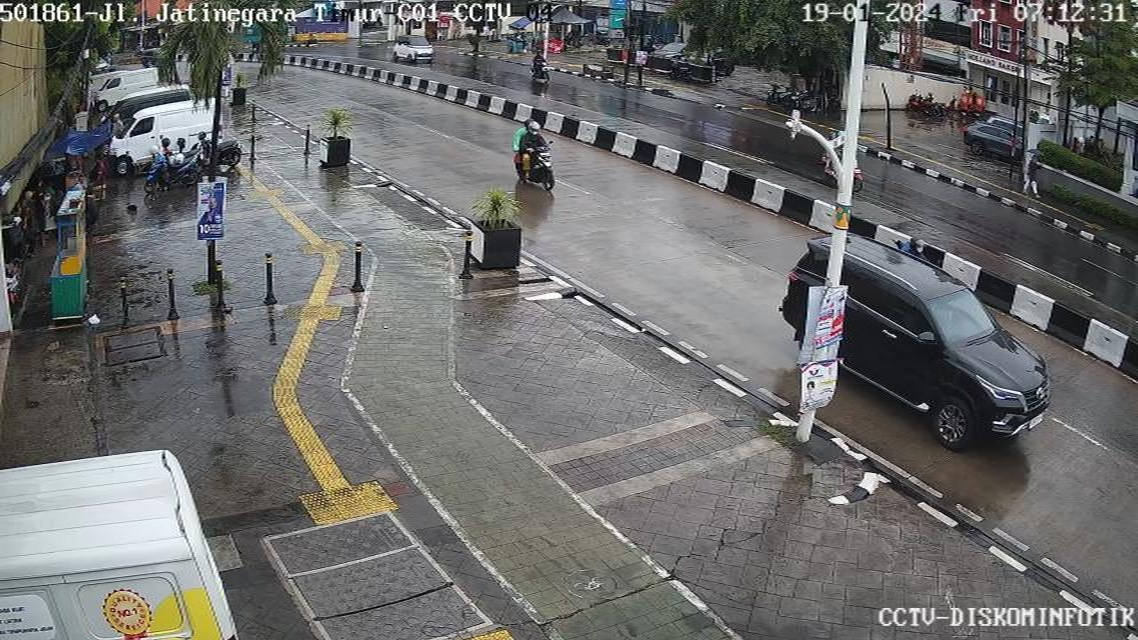Gerobak: (27, 191, 110, 331)
